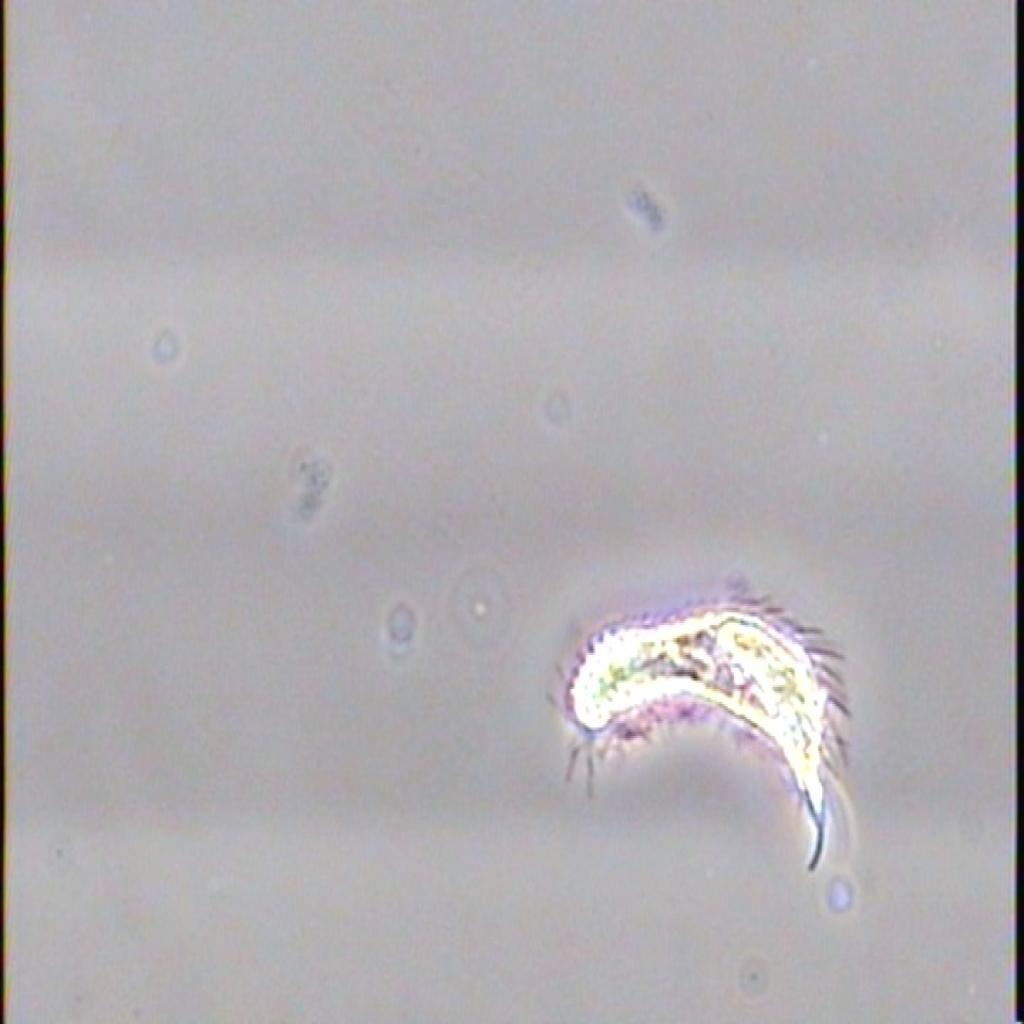Chaetonotus: (526, 542, 889, 868)
